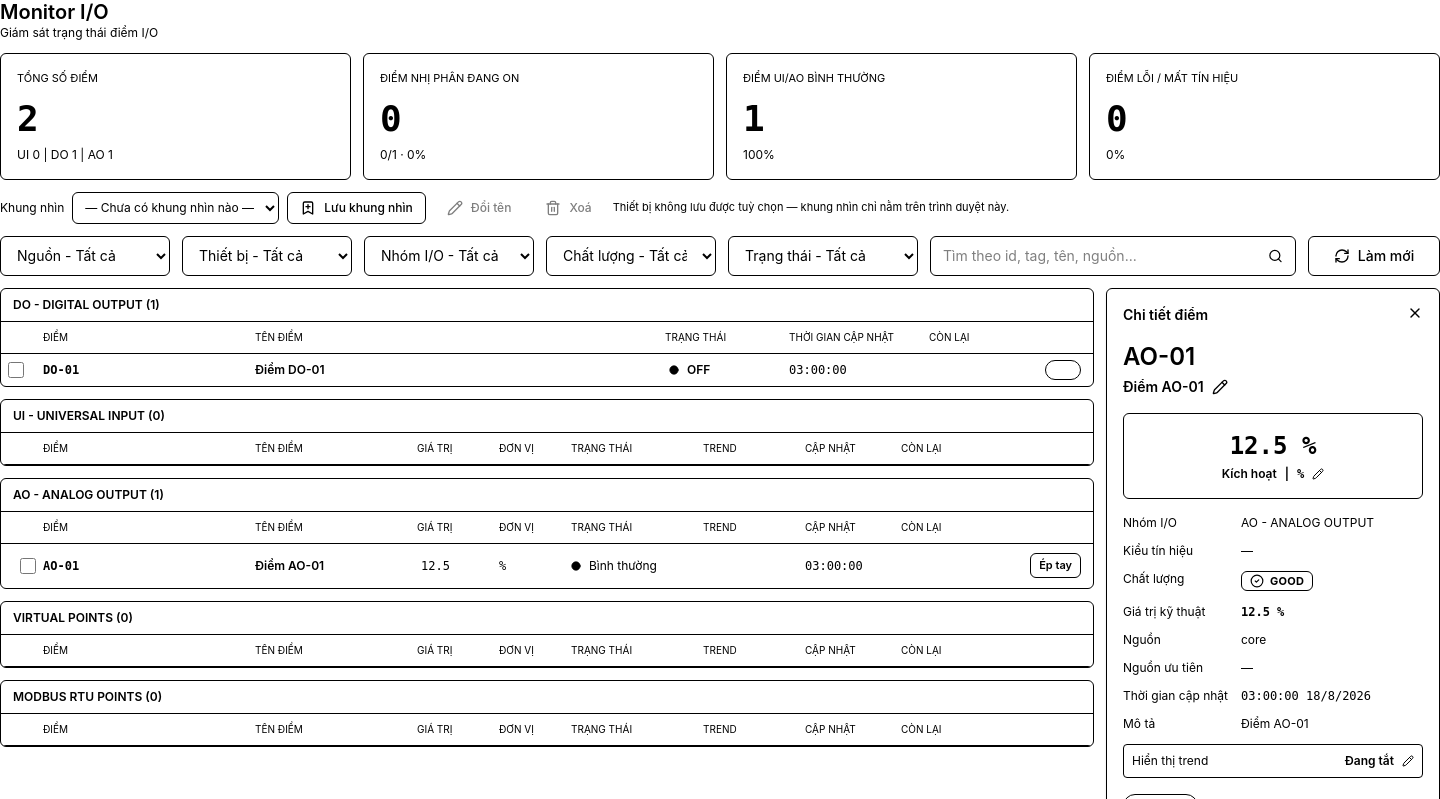
Test case: T57-1.4 — hộp thoại ép tay hàng loạt › một điểm hỏng KHÔNG làm chìm điểm đã ép — báo kết quả từng điểm
Click the checkbox named "Chọn DO-01 — Điểm DO-01 để ép tay hàng loạt": (16, 370) [8, 362, 24, 378]
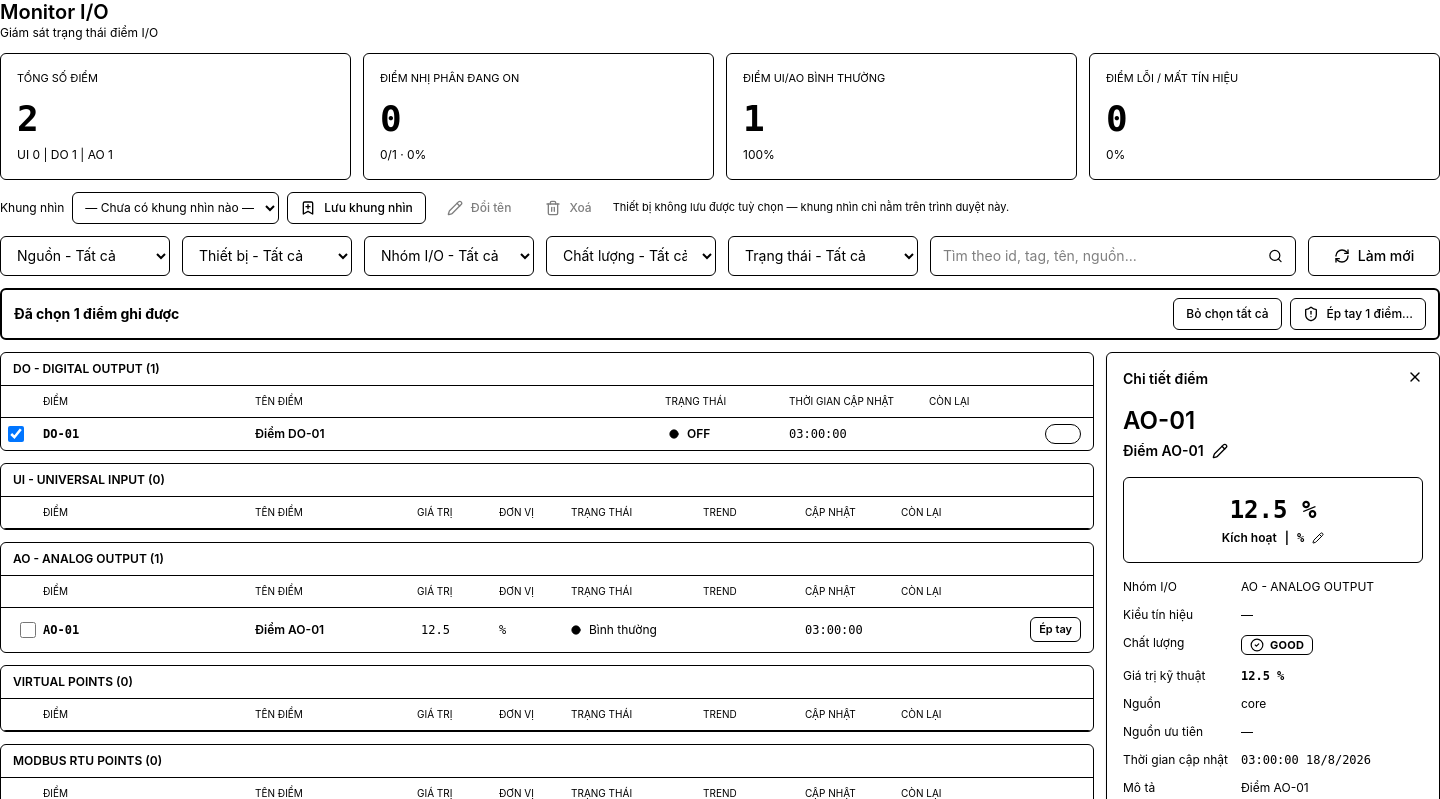
Click the checkbox named "Chọn AO-01 — Điểm AO-01 để ép tay hàng loạt": (28, 630) [20, 622, 36, 638]
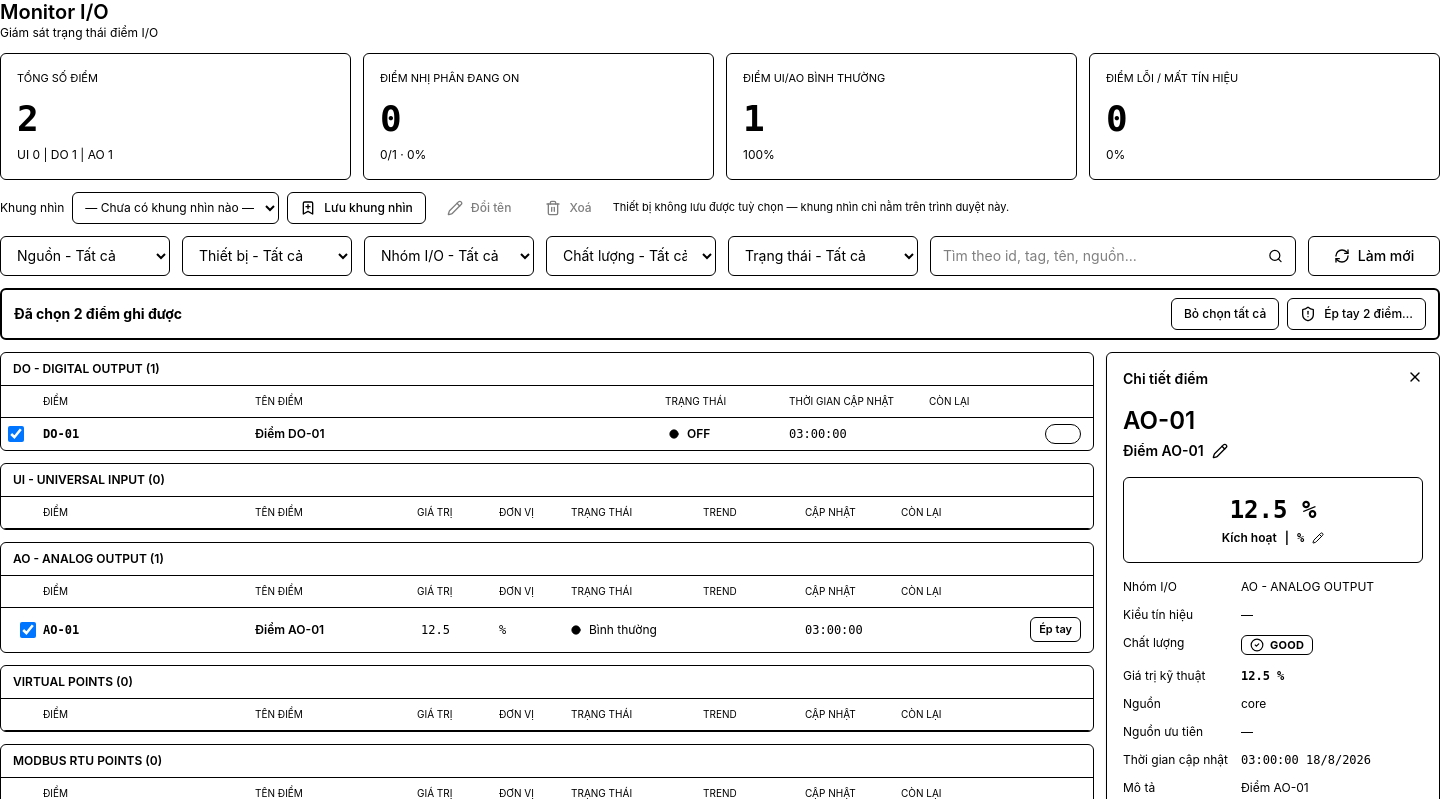
Click the button "Ép tay 2 điểm…": (1357, 314) [1287, 298, 1426, 330]
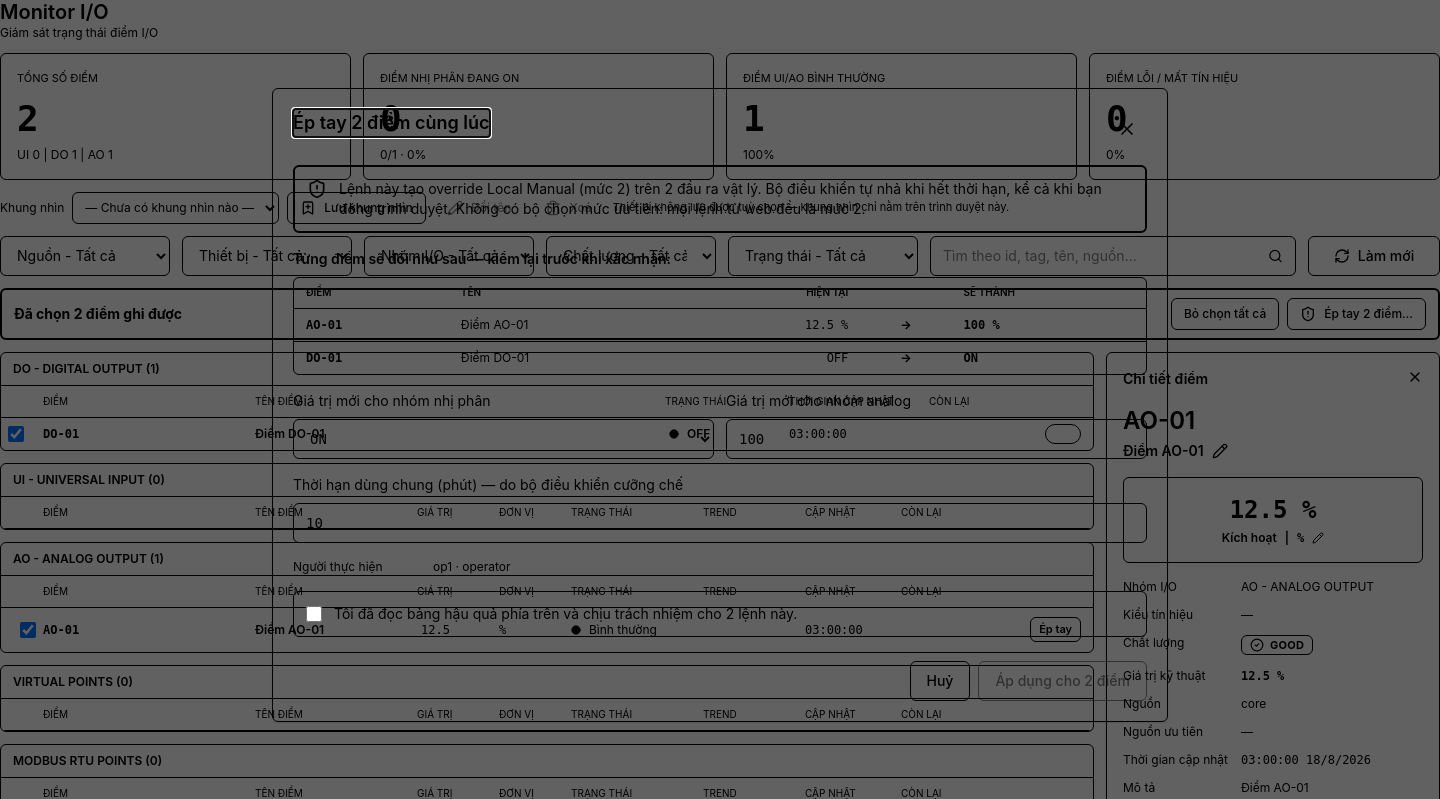
Click the checkbox labelled "chịu trách nhiệm": (314, 614) [306, 606, 322, 622]
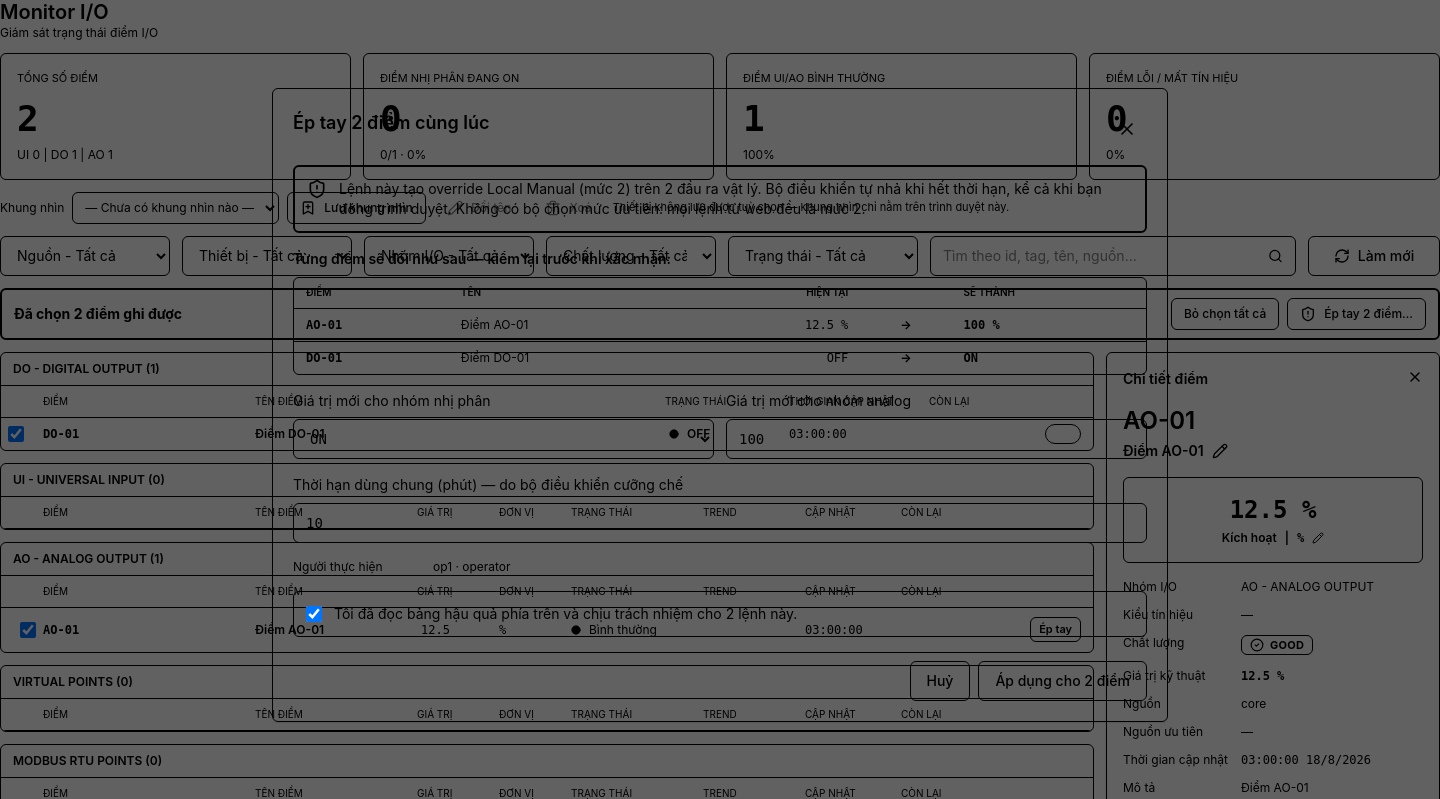
Click the button "Áp dụng cho 2 điểm": (1063, 681) [978, 661, 1147, 701]
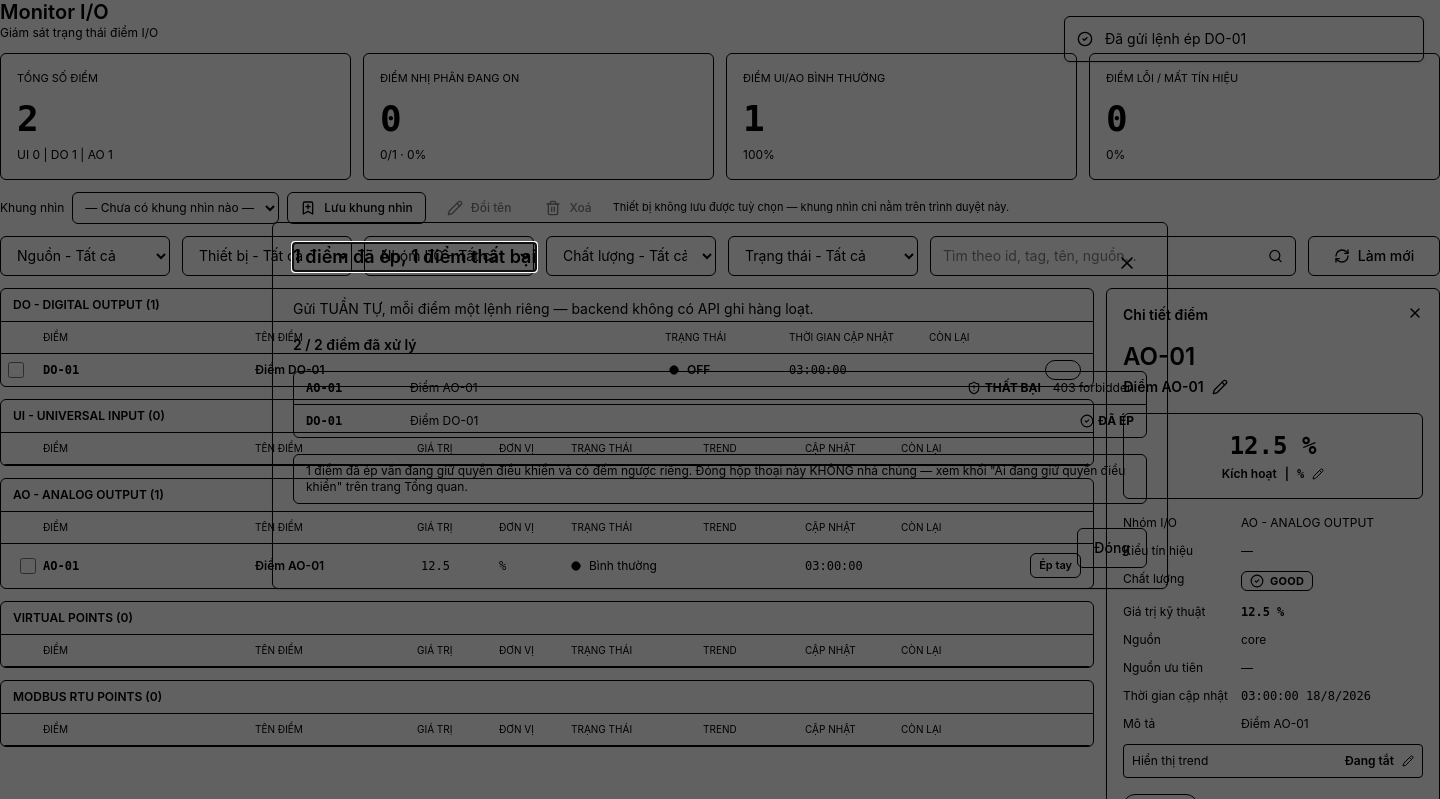
Expected: the text "THẤT BẠI" is shown, [967, 380, 1041, 396]
Expected: the text "ĐÃ ÉP" is shown, [1080, 412, 1134, 428]
Expected: the text "403 forbidden" is shown, [1053, 380, 1134, 396]
